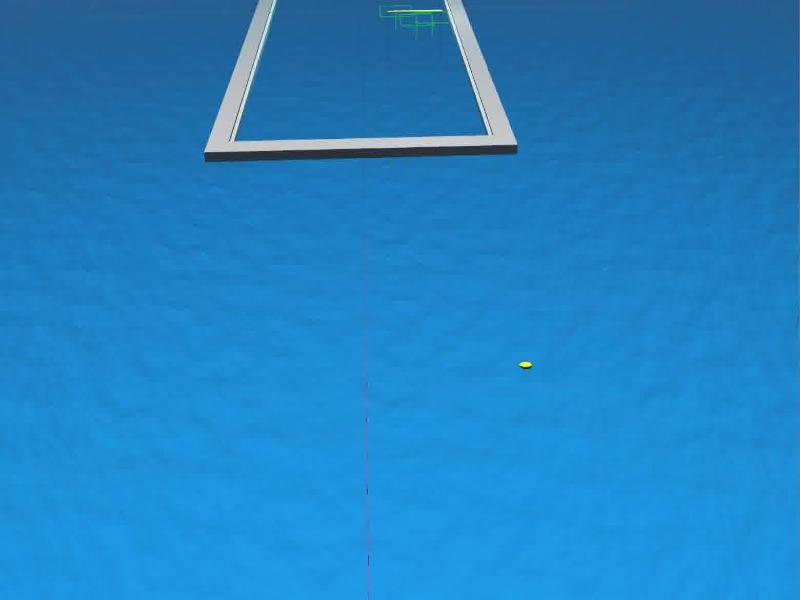gate: (384, 11, 446, 63)
